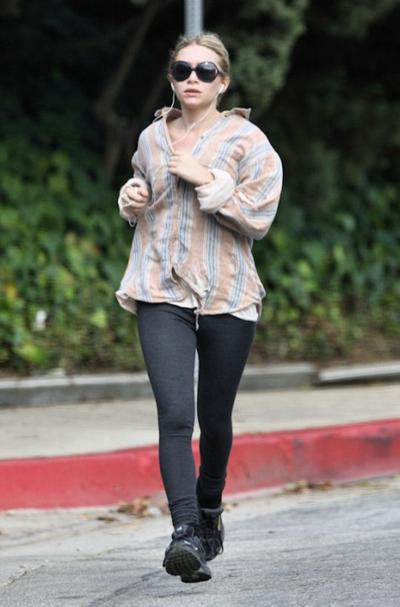person: (115, 33, 285, 584)
